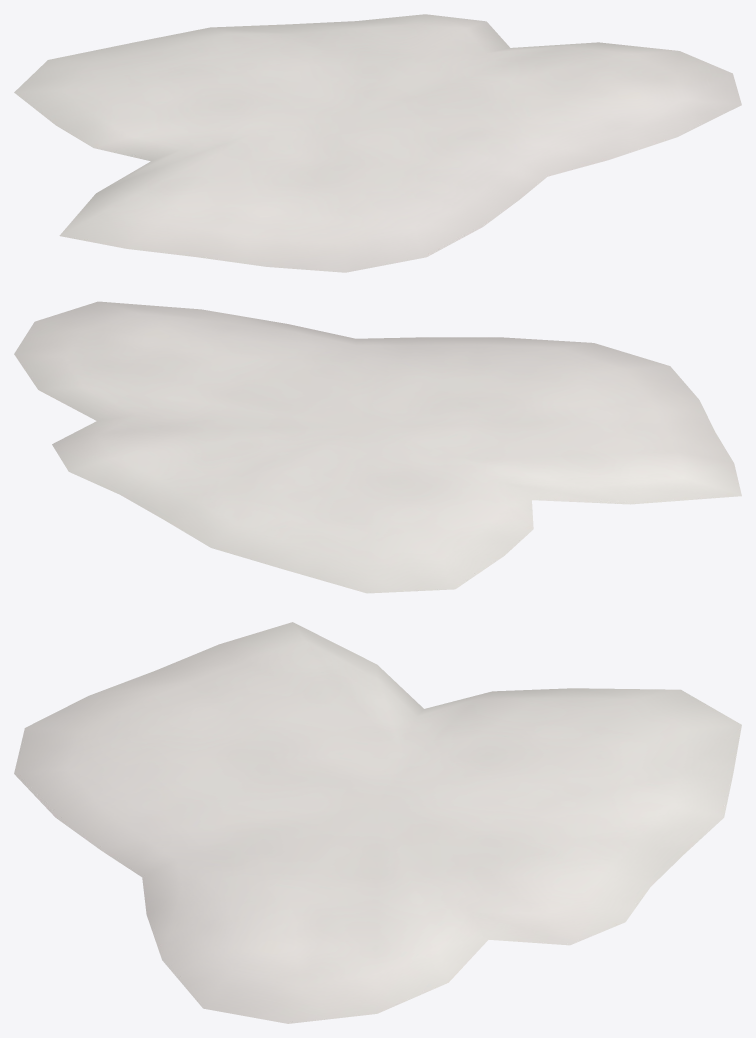
File: snow_patch.glb
The picture shows the model from 3 angles, top to bottom: view 1: azimuth 30°, elevation 25°; view 2: azimuth 150°, elevation 25°; view 3: azimuth 270°, elevation 25°; orthographic projection. The views are drawn at different scales.
Parts seen in each view (by area): view 1: Snow; view 2: Snow; view 3: Snow.
Boxes of the visible parts, x1,y1,x2,y2 form: Snow: (14,14,741,272); Snow: (14,301,741,593); Snow: (14,622,741,1023).
Size of the model in its own units: 2.82 by 0.0499 by 2.16.
1 material, 1 textured.
